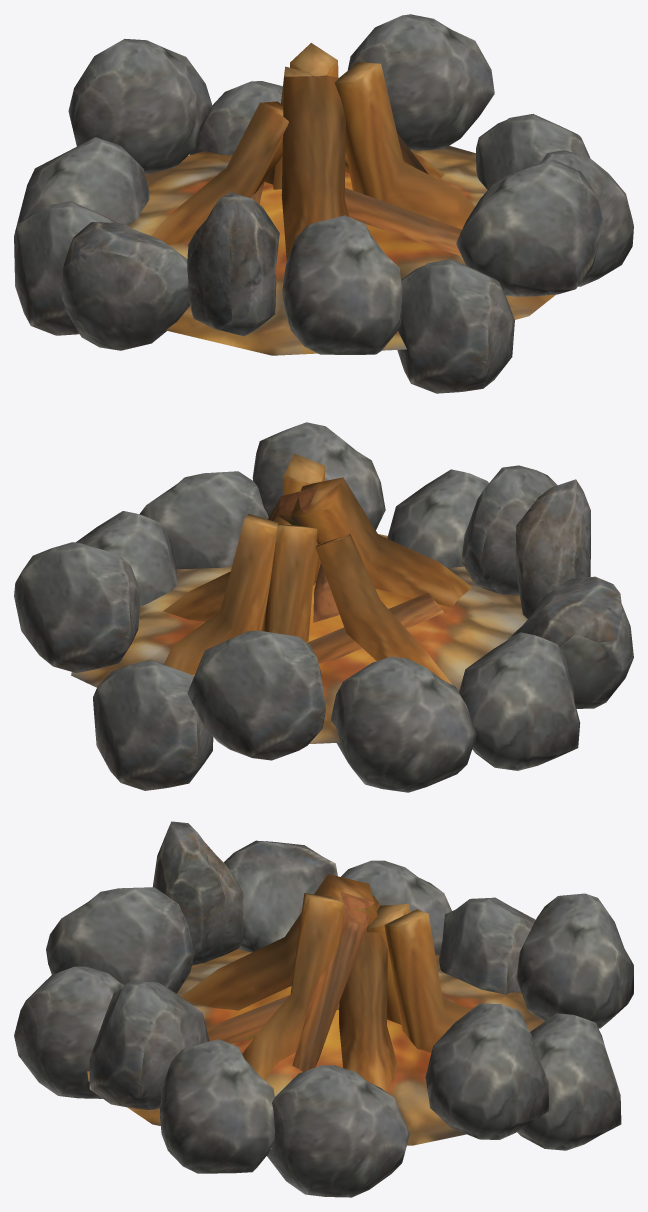
Rendered from Bonfires.fbx.
3 views of the same model, one above another, from view 1: azimuth 30°, elevation 25°; view 2: azimuth 150°, elevation 25°; view 3: azimuth 270°, elevation 25° (orthographic). The views are drawn at different scales.
Visible parts, largest first — view 1: Timber_C, Stone_Cliff_L__53_, Stone_Cliff_L__55_, Stone_Cliff_L__57_, Stone_Cliff_L__61_, Stone_Cliff_L__56_, Stone_Cliff_L__59_, Stone_Cliff_J__29_, Stone_Cliff_L__60_, Stone_Cliff_L__58_, Stone_Cliff_L__54_, Stone_Cliff_L__52_ (+1 smaller); view 2: Timber_C, Stone_Cliff_L__60_, Stone_Cliff_L__57_, Stone_Cliff_L__59_, Stone_Cliff_L__58_, Stone_Cliff_L__62_, Stone_Cliff_L__61_, Stone_Cliff_L__52_, Stone_Cliff_J__29_, Stone_Cliff_L__55_, Stone_Cliff_L__53_, Stone_Cliff_L__56_ (+1 smaller); view 3: Timber_C, Stone_Cliff_L__54_, Stone_Cliff_L__59_, Stone_Cliff_L__52_, Stone_Cliff_L__57_, Stone_Cliff_L__55_, Stone_Cliff_L__53_, Stone_Cliff_L__62_, Stone_Cliff_L__56_, Stone_Cliff_J__29_, Stone_Cliff_L__61_, Stone_Cliff_L__60_ (+1 smaller).
Boxes of the visible parts, box(x1,y1,x2,y2) form: Timber_C: box(128, 43, 555, 355); Stone_Cliff_L__53_: box(456, 159, 603, 296); Stone_Cliff_L__55_: box(282, 215, 402, 354); Stone_Cliff_L__57_: box(68, 39, 212, 174); Stone_Cliff_L__61_: box(61, 222, 189, 350); Stone_Cliff_L__56_: box(397, 259, 514, 393); Stone_Cliff_L__59_: box(347, 14, 494, 150); Stone_Cliff_J__29_: box(187, 192, 279, 336); Stone_Cliff_L__60_: box(17, 137, 149, 225); Stone_Cliff_L__58_: box(14, 201, 117, 335); Stone_Cliff_L__54_: box(476, 114, 590, 189); Stone_Cliff_L__52_: box(539, 150, 633, 286); Timber_C: box(71, 453, 527, 743); Stone_Cliff_L__60_: box(330, 656, 476, 792); Stone_Cliff_L__57_: box(187, 630, 325, 760); Stone_Cliff_L__59_: box(14, 542, 140, 673); Stone_Cliff_L__58_: box(459, 632, 580, 770); Stone_Cliff_L__62_: box(93, 660, 213, 790); Stone_Cliff_L__61_: box(508, 576, 633, 708); Stone_Cliff_L__52_: box(139, 471, 268, 568); Stone_Cliff_J__29_: box(515, 479, 590, 618); Stone_Cliff_L__55_: box(461, 465, 557, 595); Stone_Cliff_L__53_: box(252, 422, 385, 530); Stone_Cliff_L__56_: box(387, 469, 488, 567); Timber_C: box(87, 874, 544, 1148); Stone_Cliff_L__54_: box(267, 1065, 409, 1197); Stone_Cliff_L__59_: box(425, 1003, 548, 1139); Stone_Cliff_L__52_: box(159, 1039, 274, 1173); Stone_Cliff_L__57_: box(516, 893, 633, 1028); Stone_Cliff_L__55_: box(46, 887, 194, 993); Stone_Cliff_L__53_: box(89, 980, 209, 1109); Stone_Cliff_L__62_: box(517, 1013, 621, 1150); Stone_Cliff_L__56_: box(14, 966, 124, 1098); Stone_Cliff_J__29_: box(153, 821, 243, 965); Stone_Cliff_L__61_: box(224, 840, 337, 952); Stone_Cliff_L__60_: box(439, 897, 535, 994).
Bounding box in the file's own units: 364 × 151 × 369.
Materials: 2 (2 with a texture image).
